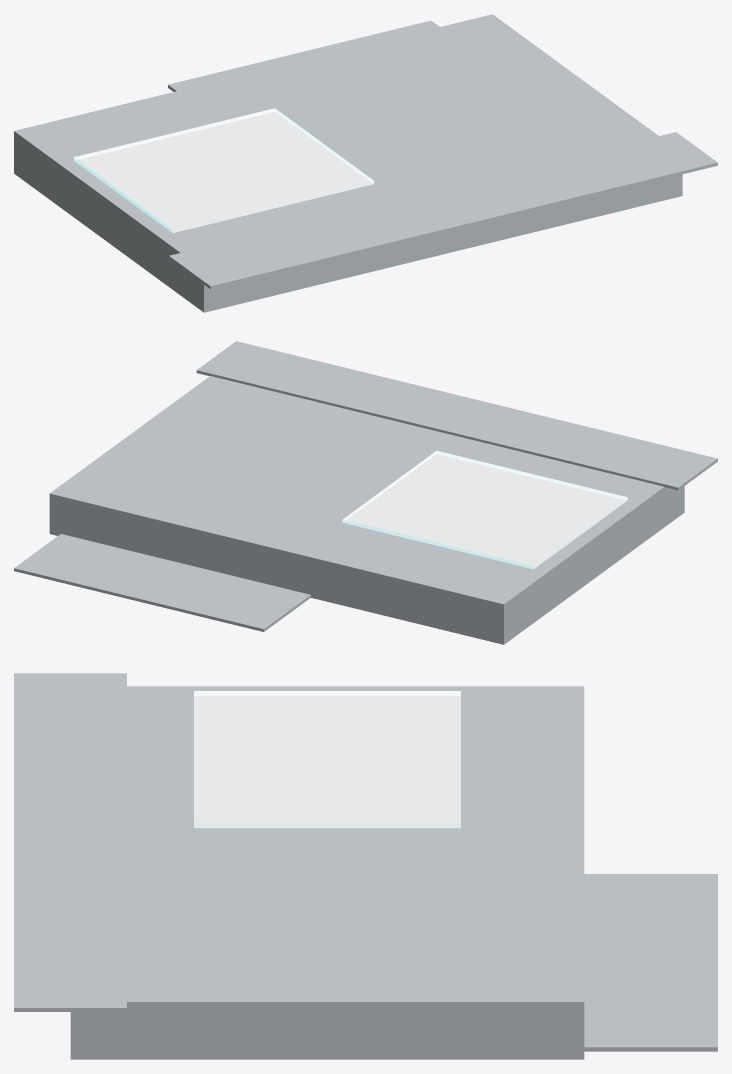
File: kinetic_edge_wellness_center.glb
3 views of the same model, one above another, from view 1: azimuth 30°, elevation 25°; view 2: azimuth 150°, elevation 25°; view 3: azimuth 270°, elevation 25° (orthographic). The views are drawn at different scales.
Parts seen in each view (by area): view 1: kinetic_edge_wellness_center; view 2: kinetic_edge_wellness_center; view 3: kinetic_edge_wellness_center.
Part boxes in pixels (x1,y1,x2,y2): kinetic_edge_wellness_center: (14,14,717,312); kinetic_edge_wellness_center: (14,341,717,644); kinetic_edge_wellness_center: (14,673,717,1059).
Bounding box in the file's own units: 103 × 9 × 91.93.
